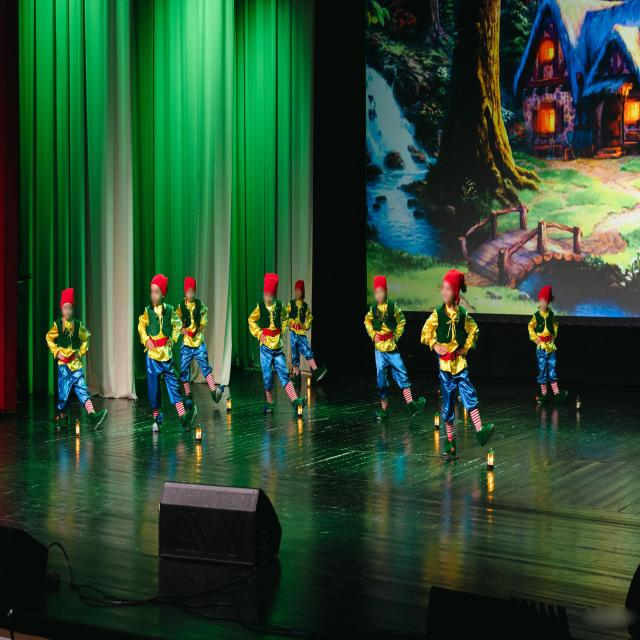Person: (420, 264, 497, 463), (38, 285, 112, 449), (130, 265, 187, 449), (244, 258, 306, 425), (362, 271, 417, 437), (173, 270, 226, 433), (526, 270, 567, 422), (285, 272, 329, 388)
